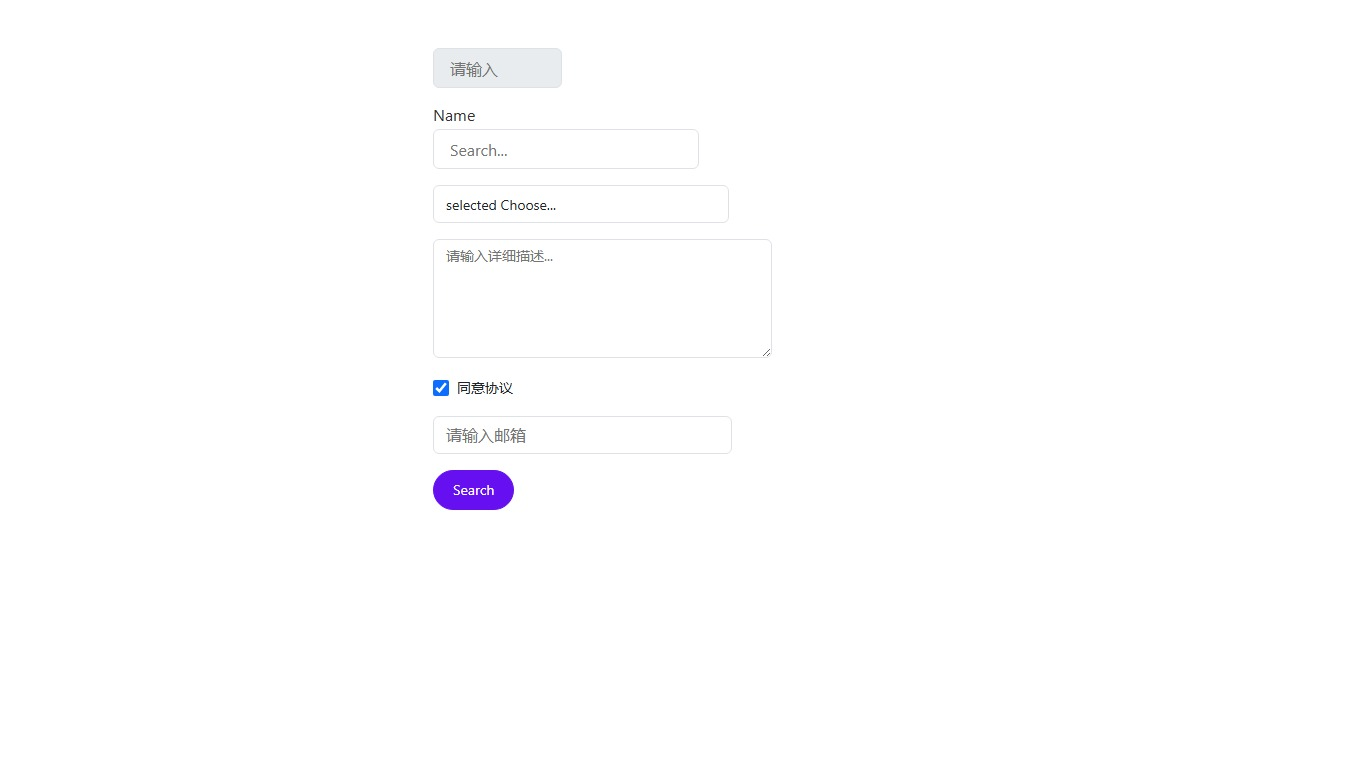button: (433, 470, 514, 510)
checkbox: (433, 379, 449, 395)
icon: (457, 378, 513, 397)
input: (433, 415, 732, 453), (433, 129, 699, 169), (433, 48, 562, 88)
radio: (433, 378, 513, 397)
select: (433, 185, 729, 223)
textarea: (433, 239, 772, 358)
